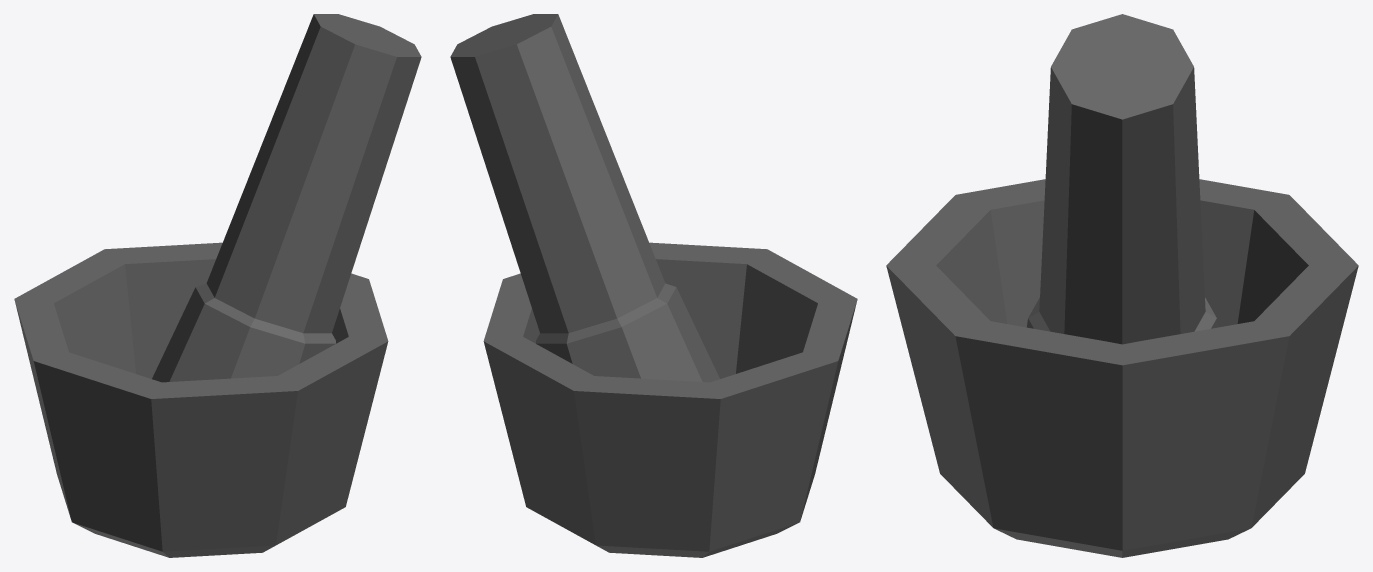
Rendered from Assets.fbx_MortarPestle.fbx.
3 views of the same model, side by side, from view 1: azimuth 30°, elevation 25°; view 2: azimuth 150°, elevation 25°; view 3: azimuth 270°, elevation 25° (orthographic). The views are drawn at different scales.
Visible parts, largest first — view 1: MortarPestle; view 2: MortarPestle; view 3: MortarPestle.
Part boxes in pixels (x1,y1,x2,y2): MortarPestle: (14,14,421,557); MortarPestle: (450,14,857,557); MortarPestle: (886,14,1358,557).
Size of the model in its own units: 14.44 by 16.37 by 12.71.
